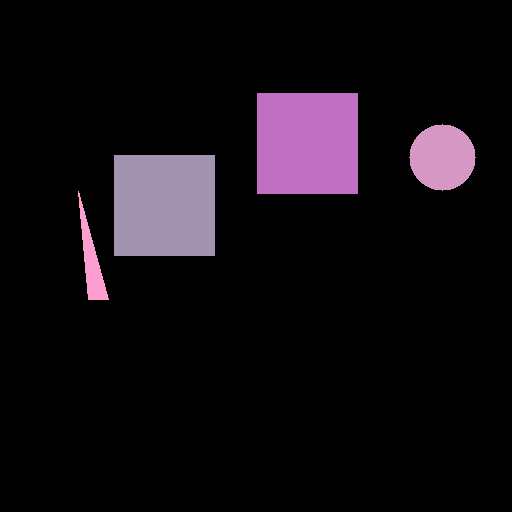circle: (409, 124, 475, 190)
square: (114, 155, 214, 255), (257, 93, 357, 193)
triangle: (78, 191, 108, 299)
